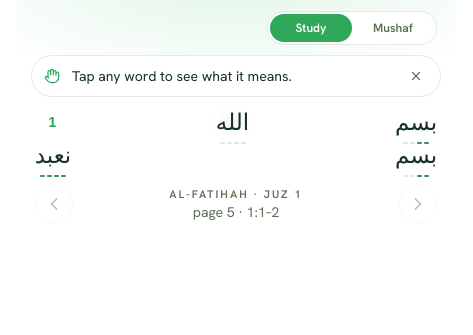
it: Reader › tapping a word shows its meaning card; tapping elsewhere dismisses it
Click the 1st button "بسم": (416, 122) 392,108 -> 440,137
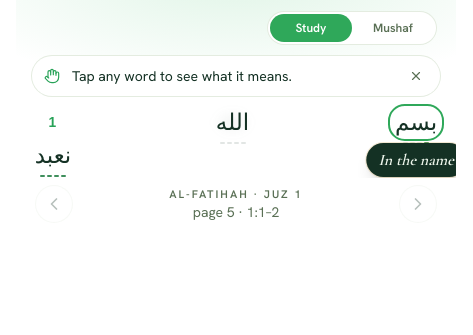
Check: the text "In the name" is shown, box 366,143 -> 456,177
Click the element with test id "reader-frame": (236, 159) 16,0 -> 456,318
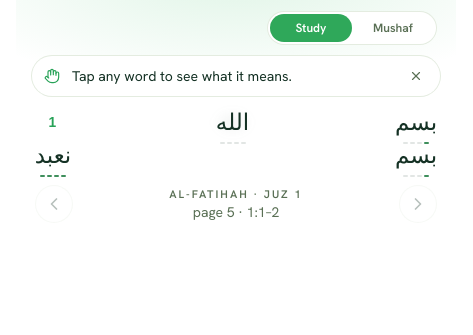
Check: the text with test id "word-meaning" is gone
